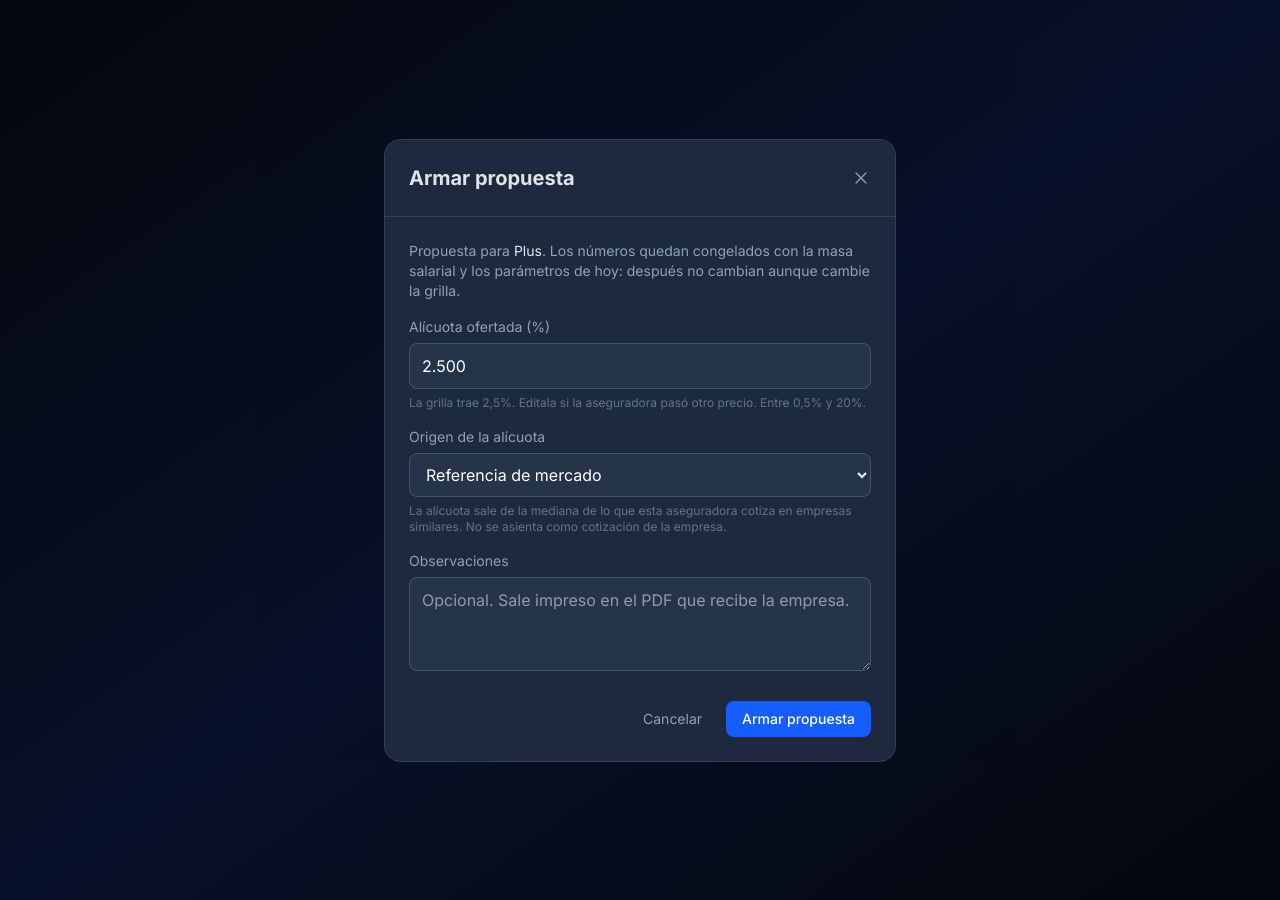
Test case: ArtPropuestaForm › rechaza una alícuota por debajo del piso: 0,25 es un 2,5 con la coma corrida
Replace the text in the number field labelled "Alícuota ofertada (%)" with "0.25": [640, 366] box [409,342,871,388]
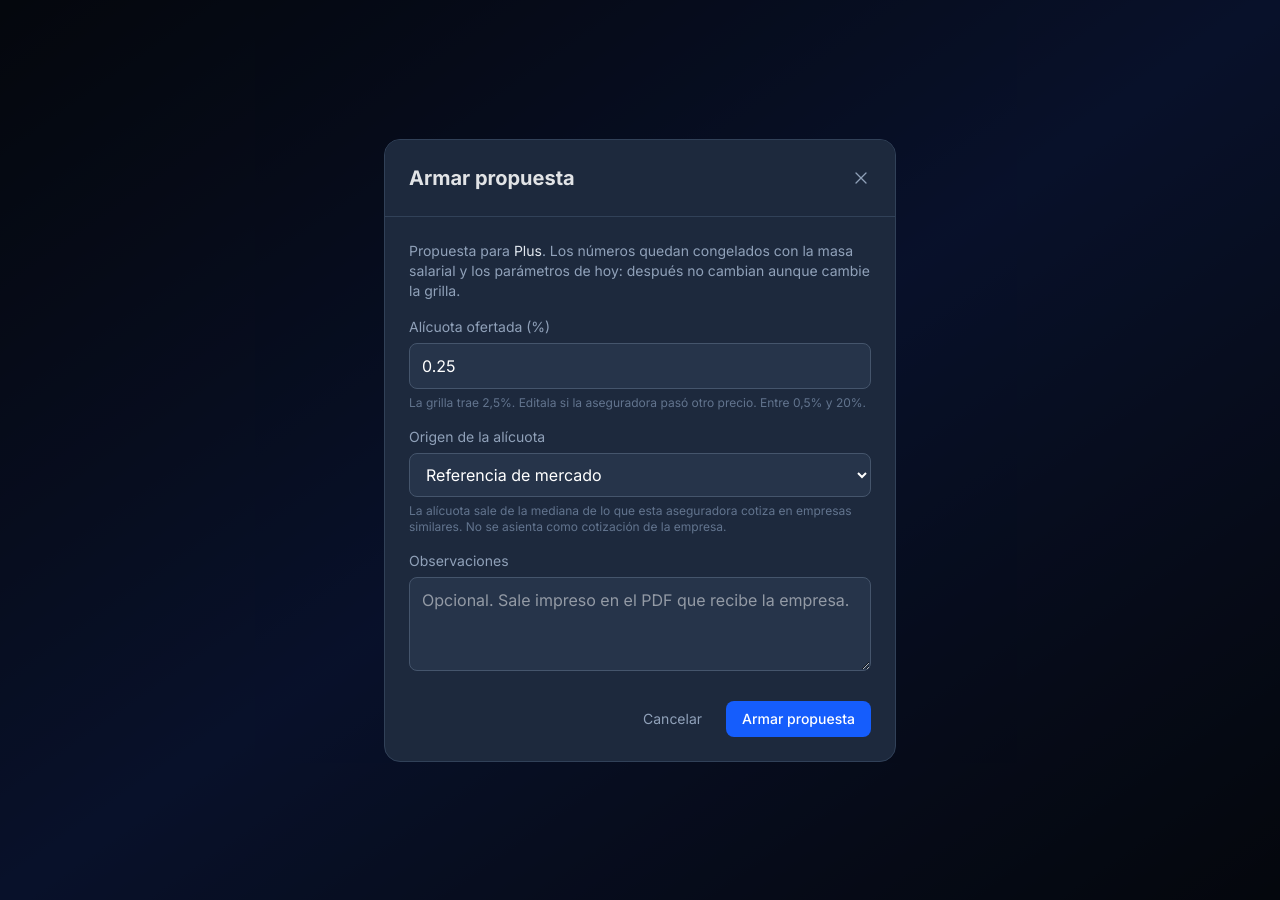
Click the button "Armar propuesta": [799, 718] box [726,700,871,736]
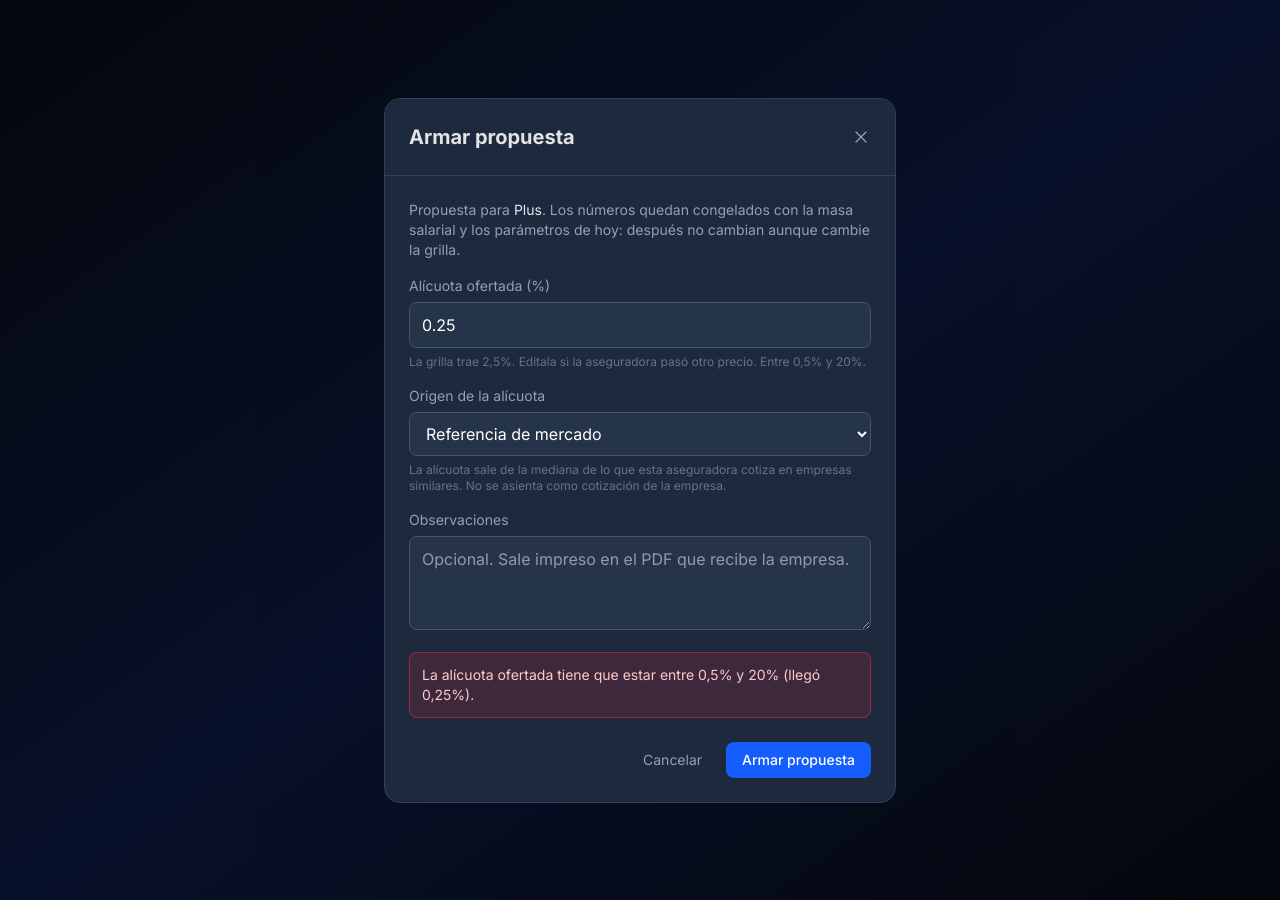
Expected: the text "entre 0,5% y 20%" is shown, [422,666,820,702]
